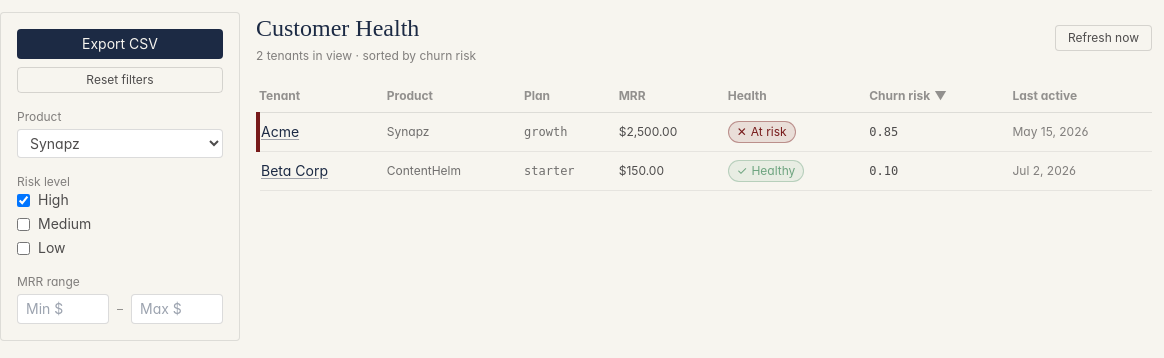
Test: CustomerHealthFilters — sidebar + URL state (HUB-1682) › Reset button clears the sidebar back to defaults
Step 1. Click the button with test id "customer-health-reset" → (120, 80), box [17,67,223,93]
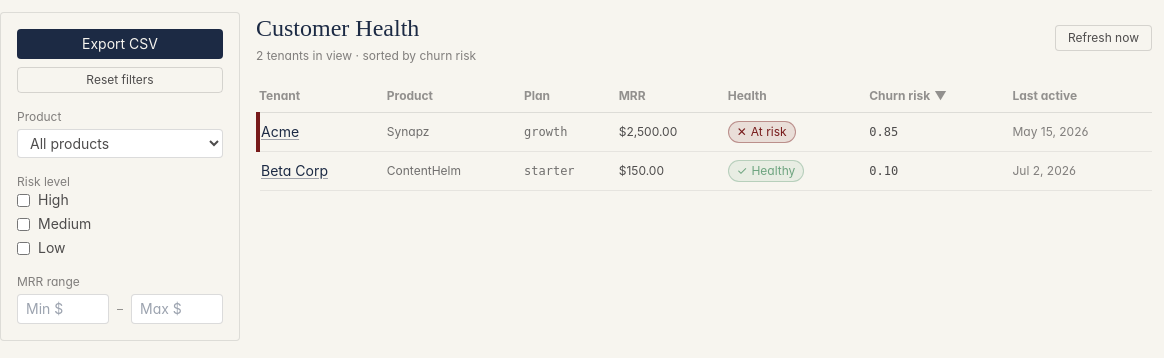
Expected: the dropdown with test id "customer-health-filter-product" shows "All products", [17,129,223,158]
Expected: the checkbox with test id "customer-health-filter-risk-high" is not checked, [17,194,30,206]
